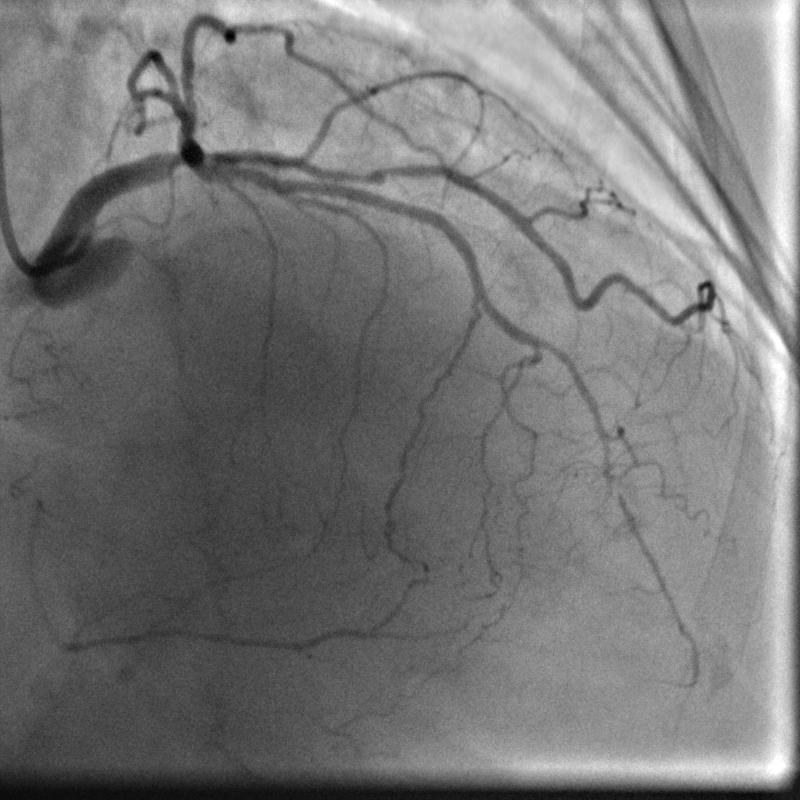Stenosis: (335, 155, 422, 191)
